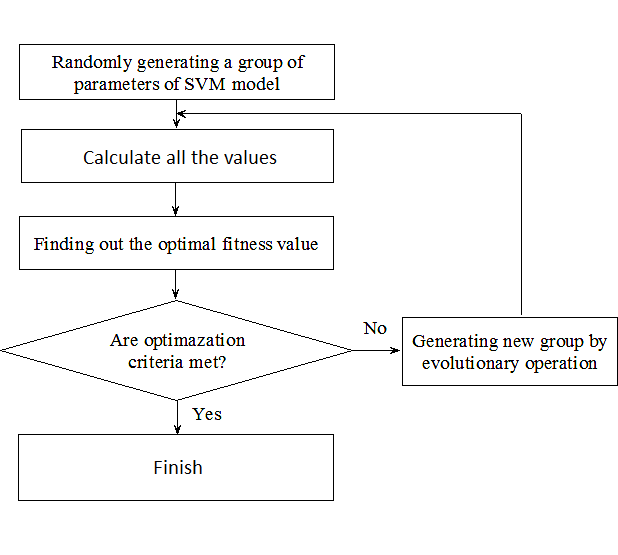arrow: (173, 107, 525, 315), (350, 345, 403, 357), (172, 399, 185, 434), (170, 267, 182, 300), (170, 181, 181, 215), (170, 97, 182, 128)
decision: (2, 299, 356, 402)
process: (14, 431, 337, 505), (17, 42, 338, 103), (18, 126, 337, 186), (17, 213, 336, 272), (398, 314, 618, 387)
text: (50, 54, 306, 96), (410, 332, 609, 373), (30, 235, 318, 256), (108, 332, 248, 370), (81, 148, 282, 167), (151, 457, 203, 476), (191, 405, 223, 423), (361, 318, 388, 338)
